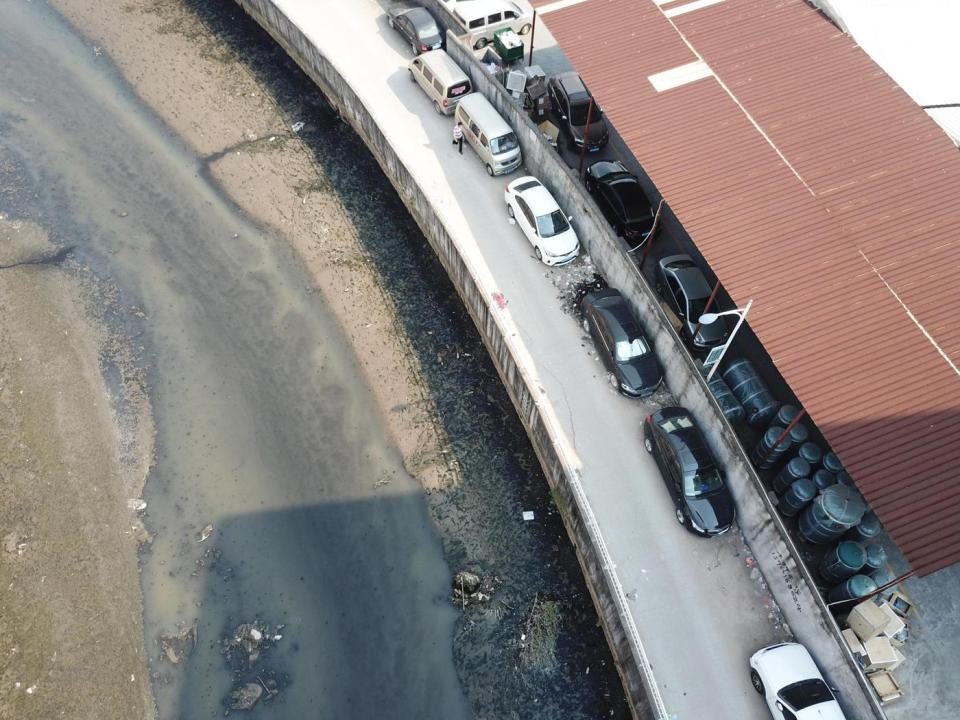car: (644, 405, 737, 537), (581, 287, 663, 399), (749, 642, 847, 720), (654, 253, 730, 352), (504, 176, 580, 266), (584, 159, 662, 245), (546, 71, 610, 153), (386, 0, 449, 56)
van: (454, 91, 522, 176), (408, 48, 473, 115), (451, 0, 533, 49)
